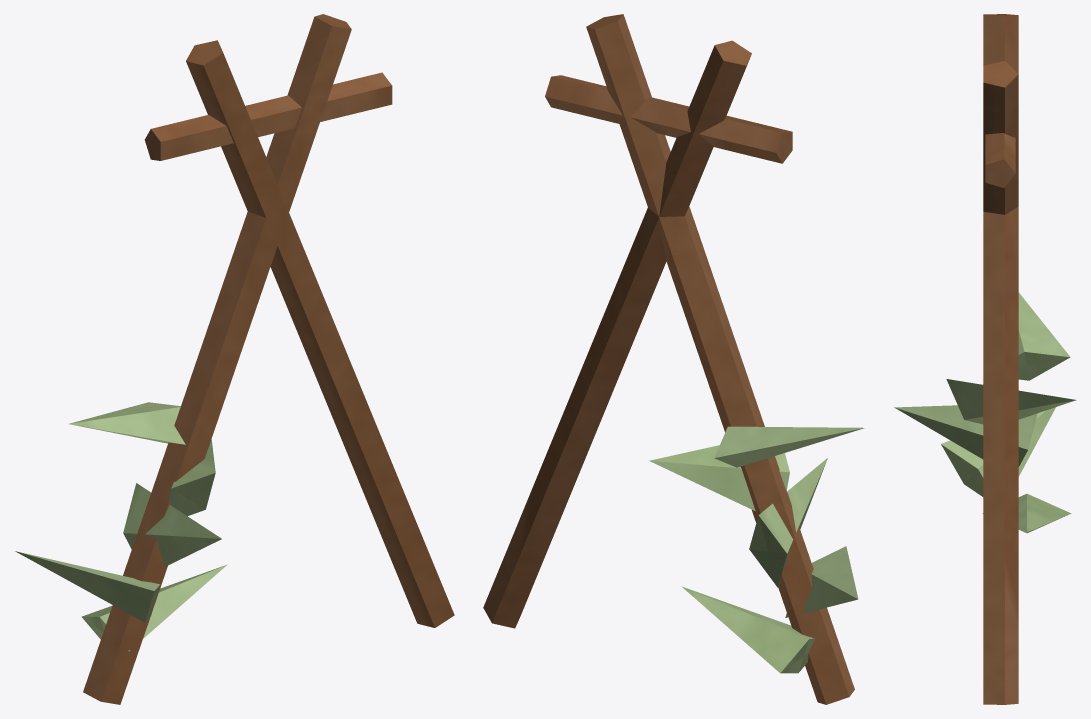
Rendered from sm_crop_pea_2.glb.
3 renders of one model, left to right at view 1: azimuth 30°, elevation 25°; view 2: azimuth 150°, elevation 25°; view 3: azimuth 270°, elevation 25°, orthographic. The views are drawn at different scales.
Parts seen in each view (by area): view 1: sm_crop_pea_2; view 2: sm_crop_pea_2; view 3: sm_crop_pea_2.
Part boxes in pixels (bbox=[...]): sm_crop_pea_2: bbox=[15, 14, 454, 704]; sm_crop_pea_2: bbox=[483, 14, 864, 704]; sm_crop_pea_2: bbox=[894, 14, 1076, 704].
Size of the model in its own units: 0.315 by 0.4697 by 0.131.
Materials: 1 (1 with a texture image).
